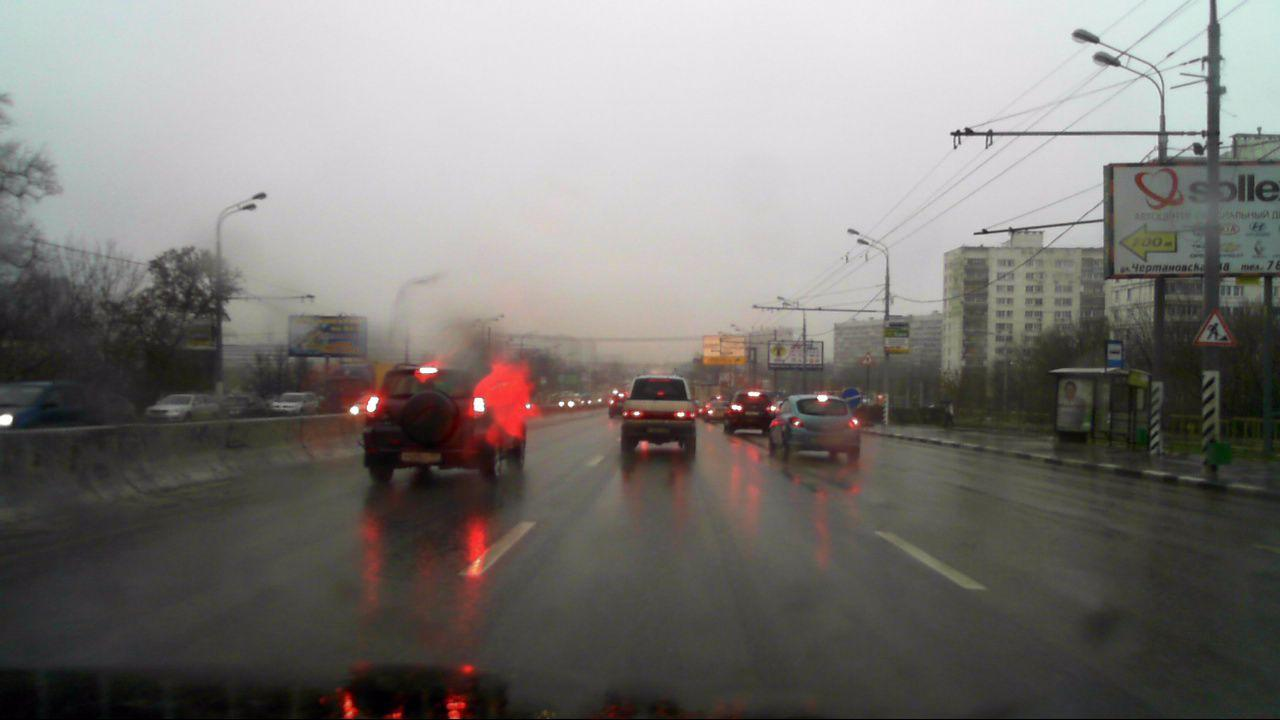1_25: (1192, 307, 1237, 348), (861, 354, 875, 367)
4_2_2: (840, 387, 861, 408)
5_16: (1104, 339, 1124, 368)
